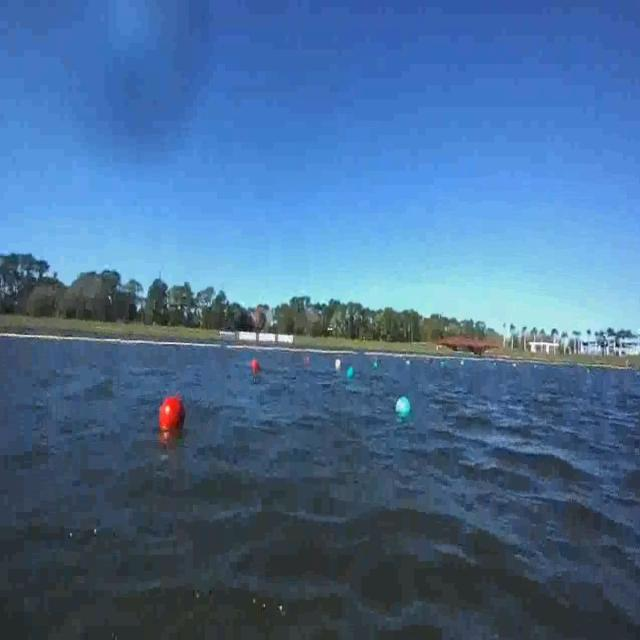green-buoy: (395, 396, 410, 417), (347, 365, 356, 379)
red-buoy: (159, 396, 186, 430), (250, 354, 261, 378)
